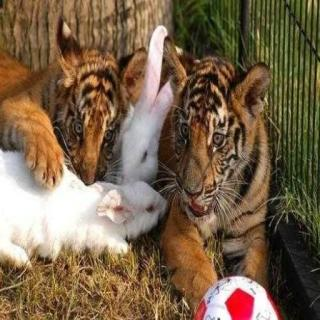Tiger: (142, 51, 288, 271), (0, 17, 121, 146)
